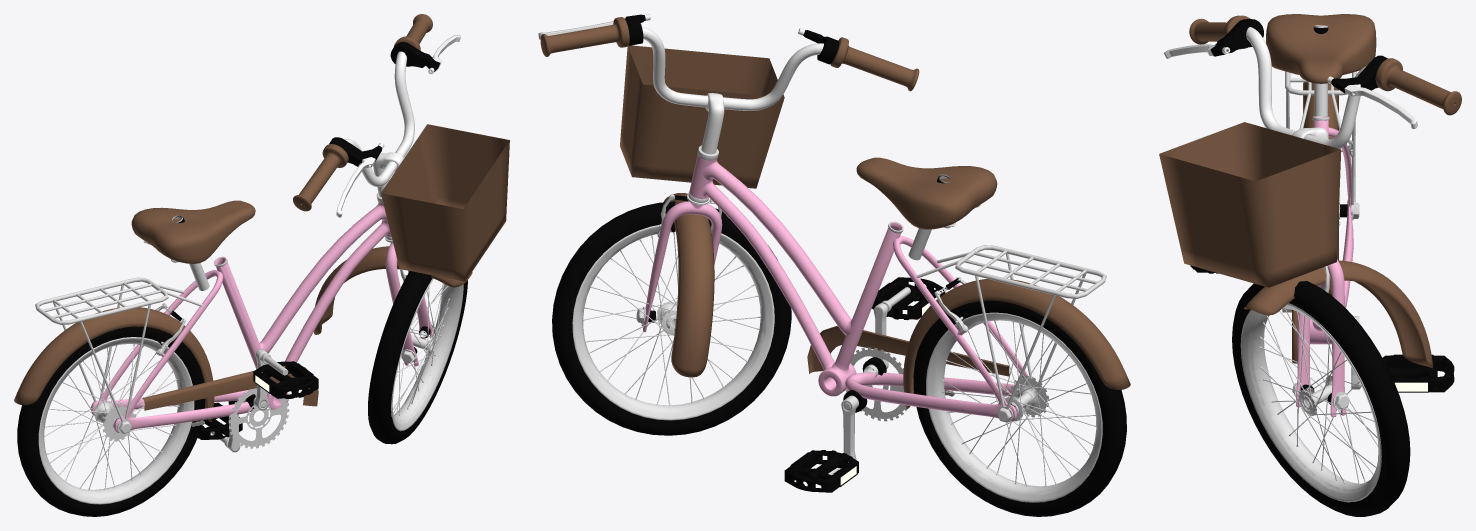
The model's file is pink-city-bicycle-runtime.glb.
3 views of the same model, side by side, from view 1: azimuth 30°, elevation 25°; view 2: azimuth 150°, elevation 25°; view 3: azimuth 270°, elevation 25° (orthographic). The views are drawn at different scales.
Parts seen in each view (by area): view 1: basket, back_wheelset, Frameset, front_wheelset, Saddle車座, back_mudguard, handle, 後座, 鍊條檔板, Pedals.R, 大齒輪, front_mudguard (+5 smaller); view 2: front_wheelset, back_wheelset, Frameset, basket, handle, Saddle車座, back_mudguard, front_mudguard, 後座, Pedals.L, 鍊條檔板, Fork (+4 smaller); view 3: basket, front_wheelset, Saddle車座, handle, front_mudguard, Fork, Pedals.L, Frameset, 後座, 煞車TL.003, back_mudguard, 煞車TL.002 (+4 smaller).
Boxes of the visible parts, bbox=[...] form: basket: bbox=[381, 124, 509, 281]; back_wheelset: bbox=[17, 326, 205, 516]; Frameset: bbox=[91, 193, 392, 432]; front_wheelset: bbox=[368, 271, 467, 444]; Saddle車座: bbox=[131, 200, 255, 263]; back_mudguard: bbox=[14, 307, 214, 421]; handle: bbox=[293, 14, 432, 244]; 後座: bbox=[35, 277, 202, 422]; 鍊條檔板: bbox=[142, 366, 318, 410]; Pedals.R: bbox=[253, 361, 318, 398]; 大齒輪: bbox=[228, 388, 289, 448]; front_mudguard: bbox=[314, 246, 472, 334]; front_wheelset: bbox=[552, 201, 791, 435]; back_wheelset: bbox=[913, 300, 1126, 516]; Frameset: bbox=[688, 145, 1029, 421]; basket: bbox=[620, 45, 784, 188]; handle: bbox=[540, 17, 919, 209]; Saddle車座: bbox=[856, 157, 997, 229]; back_mudguard: bbox=[903, 279, 1130, 408]; front_mudguard: bbox=[663, 193, 714, 377]; 後座: bbox=[916, 245, 1106, 409]; Pedals.L: bbox=[784, 450, 858, 492]; 鍊條檔板: bbox=[807, 325, 1009, 376]; Fork: bbox=[641, 201, 722, 332]; basket: bbox=[1159, 122, 1341, 287]; front_wheelset: bbox=[1232, 281, 1410, 516]; Saddle車座: bbox=[1266, 14, 1376, 83]; handle: bbox=[1189, 15, 1461, 148]; front_mudguard: bbox=[1244, 260, 1433, 367]; Fork: bbox=[1296, 259, 1346, 416]; Pedals.L: bbox=[1382, 354, 1454, 392]; Frameset: bbox=[1310, 116, 1353, 344]; 後座: bbox=[1285, 71, 1356, 205]; 煞車TL.003: bbox=[1210, 19, 1263, 56]; back_mudguard: bbox=[1303, 82, 1338, 295]; 煞車TL.002: bbox=[1327, 55, 1387, 93].
Size of the model in its own units: 1.52 by 1.13 by 0.6692.
